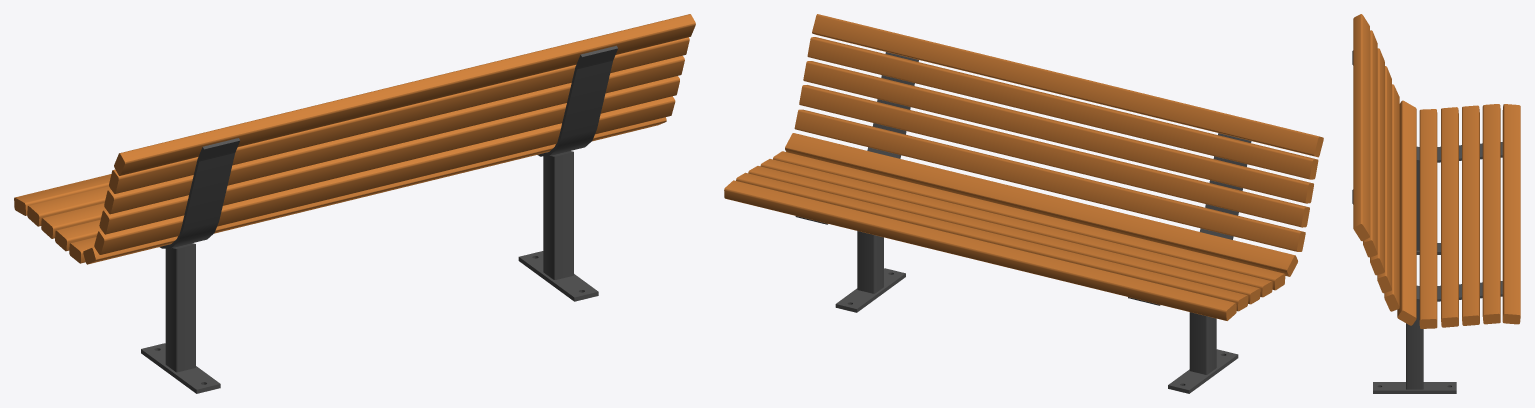
The picture shows the model from 3 angles, left to right: view 1: azimuth 30°, elevation 25°; view 2: azimuth 150°, elevation 25°; view 3: azimuth 270°, elevation 25°; orthographic projection. The views are drawn at different scales.
Parts seen in each view (by area): view 1: mesh1_mesh1-geometry, mesh3_mesh3-geometry, mesh4_mesh4-geometry, mesh5_mesh5-geometry; view 2: mesh1_mesh1-geometry, mesh3_mesh3-geometry, mesh5_mesh5-geometry, mesh4_mesh4-geometry; view 3: mesh1_mesh1-geometry, mesh3_mesh3-geometry, mesh5_mesh5-geometry, mesh4_mesh4-geometry.
Part boxes in pixels (box(x1,y1,x2,y2)): mesh1_mesh1-geometry: box(14, 14, 695, 264); mesh3_mesh3-geometry: box(165, 151, 573, 372); mesh4_mesh4-geometry: box(159, 45, 617, 248); mesh5_mesh5-geometry: box(141, 251, 598, 393); mesh1_mesh1-geometry: box(724, 14, 1323, 320); mesh3_mesh3-geometry: box(857, 231, 1216, 374); mesh5_mesh5-geometry: box(835, 268, 1238, 393); mesh4_mesh4-geometry: box(795, 52, 1251, 305); mesh1_mesh1-geometry: box(1353, 14, 1520, 328); mesh3_mesh3-geometry: box(1406, 162, 1423, 389); mesh5_mesh5-geometry: box(1373, 243, 1456, 393); mesh4_mesh4-geometry: box(1352, 50, 1502, 301).
Bounding box in the file's own units: 0.8723 × 0.3895 × 0.2957.
